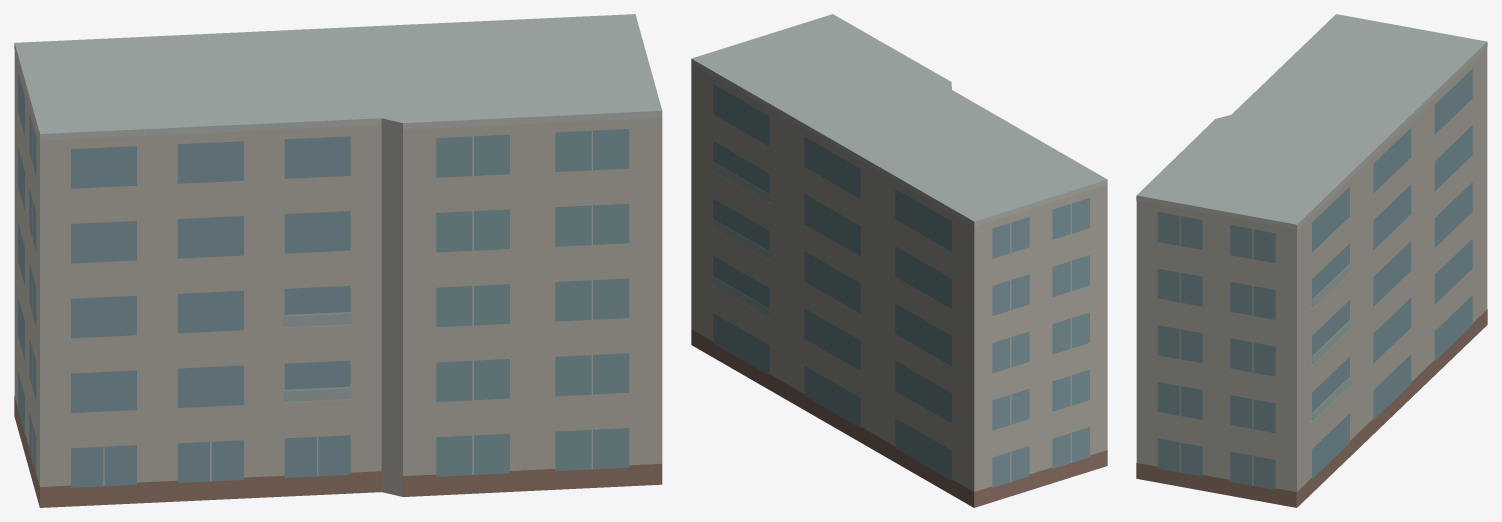
File: survey-upis-32672018.glb
3 renders of one model, left to right at view 1: azimuth 30°, elevation 25°; view 2: azimuth 150°, elevation 25°; view 3: azimuth 270°, elevation 25°, orthographic. The views are drawn at different scales.
Parts seen in each view (by area): view 1: survey-upis-32672018.tmp; view 2: survey-upis-32672018.tmp; view 3: survey-upis-32672018.tmp.
Boxes of the visible parts, x1,y1,x2,y2 form: survey-upis-32672018.tmp: (14,14,662,507); survey-upis-32672018.tmp: (691,14,1107,507); survey-upis-32672018.tmp: (1136,14,1487,507).
Bounding box in the file's own units: 21.69 × 13.6 × 15.28.
